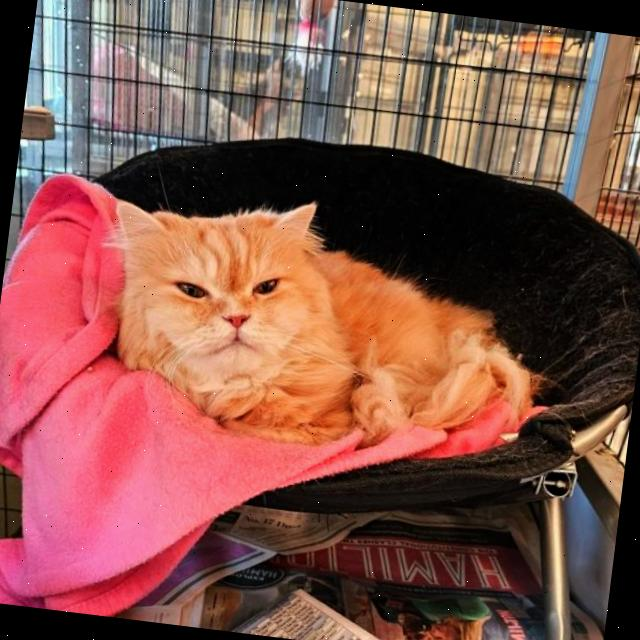persian_cat: (88, 172, 352, 437)
